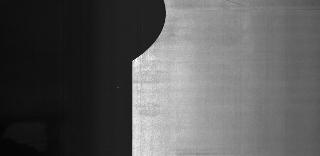welding line: (162, 7, 320, 18)
